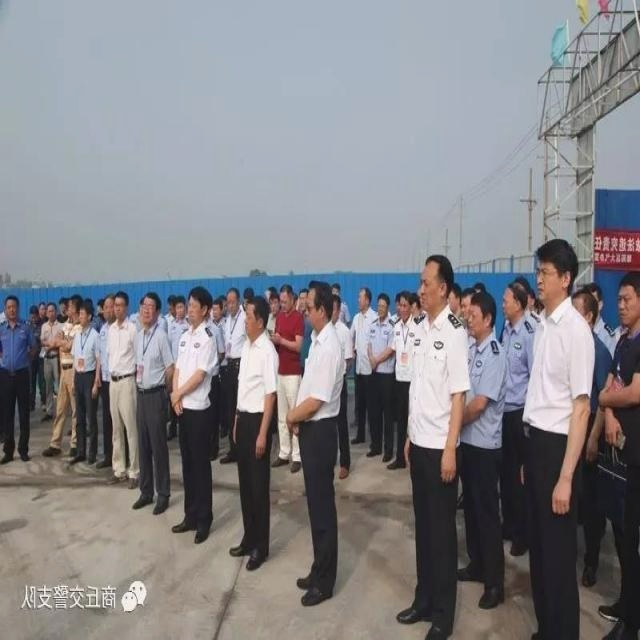Sin_Casco_Mascarrilla: (534, 237, 577, 306), (418, 253, 454, 311)
Sin_Chaleco: (297, 323, 346, 421), (171, 323, 213, 410), (236, 333, 276, 416)
